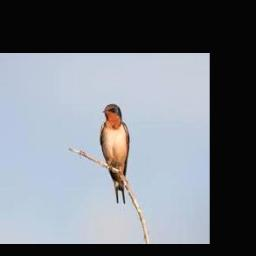Swallow: (100, 104, 129, 203)
